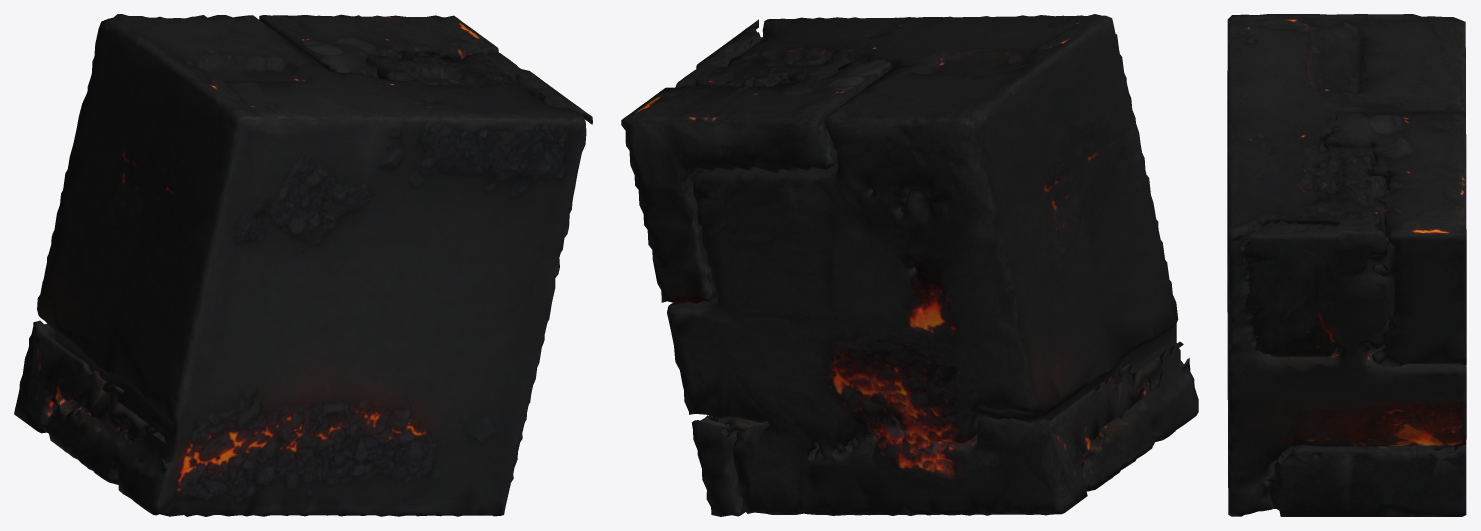
Rendered from ExportedMesh_0519084101_texture.obj.
3 renders of one model, left to right at view 1: azimuth 30°, elevation 25°; view 2: azimuth 150°, elevation 25°; view 3: azimuth 270°, elevation 25°, orthographic. The views are drawn at different scales.
Parts seen in each view (by area): view 1: ExportedMesh_0519084101_texture; view 2: ExportedMesh_0519084101_texture; view 3: ExportedMesh_0519084101_texture.
Part boxes in pixels (x1=…): ExportedMesh_0519084101_texture: x1=14, y1=14, x2=592, y2=516; ExportedMesh_0519084101_texture: x1=621, y1=14, x2=1198, y2=516; ExportedMesh_0519084101_texture: x1=1227, y1=14, x2=1466, y2=516.
Bounding box in the file's own units: 1.99 × 2 × 1.1.
Materials: 1 (1 with a texture image).
